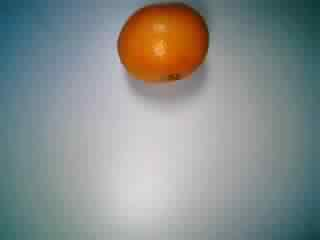orange: (114, 1, 211, 98)
